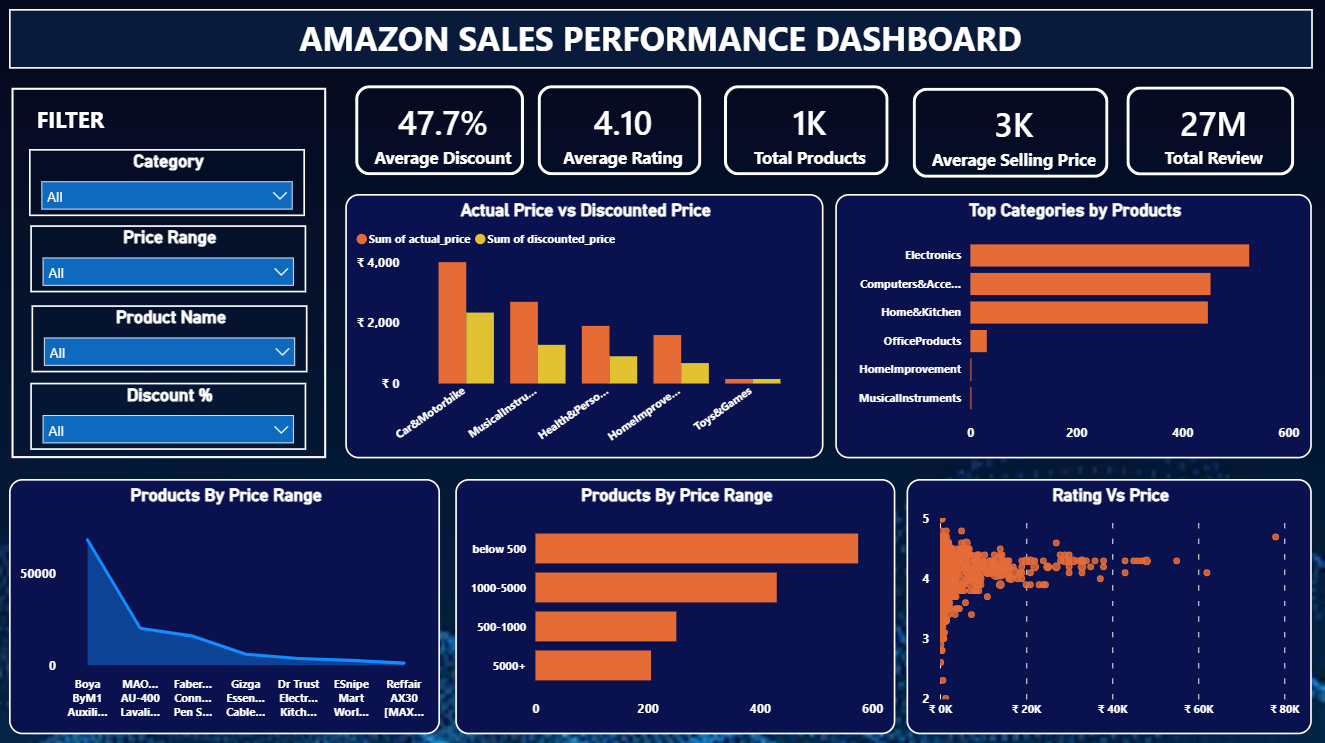

The page's visual inventory and layout, read from the dashboard file:
{"tool":"powerbi","page":{"name":"Page 1","canvas":[1280,720],"ordinal":0},"visuals":[{"type":"textbox","box":[9.7,9.7,1258.3,57.9],"z":0},{"type":"cardVisual","fields":{"Data":["amazon.Average Selling Price"]},"box":[865,68.8,223.8,121.2],"z":1000},{"type":"cardVisual","fields":{"Data":["amazon.Total Review"]},"box":[1071.2,67.5,196.2,120],"z":2000},{"type":"cardVisual","fields":{"Data":["amazon.Average Discount"]},"box":[327.5,66.2,197.5,121.2],"z":3000},{"type":"cardVisual","fields":{"Data":["amazon.Average Rating"]},"box":[502.5,66.2,192.5,121.2],"z":4000},{"type":"cardVisual","fields":{"Data":["amazon.Total Products"]},"box":[682.5,66.2,193.8,121.2],"z":5000},{"type":"clusteredBarChart","title":"Top Categories by Products","fields":{"Category":["amazon.category.1"],"Y":["CountNonNull(amazon.product_id)"]},"box":[807.5,188.8,460,255],"z":6000},{"type":"clusteredColumnChart","title":"Actual Price vs Discounted Price","fields":{"Category":["amazon.category.1"],"Y":["Sum(amazon.actual_price)","Sum(amazon.discounted_price)"]},"box":[333.8,188.8,461.2,255],"z":7000},{"type":"scatterChart","title":"Rating Vs Price","fields":{"X":["amazon.discounted_price"],"Y":["amazon.rating"],"Size":["CountNonNull(amazon.rating_count)"]},"box":[876.2,463.8,391.2,246.2],"z":8000},{"type":"barChart","title":"Products By Price Range","fields":{"Category":["amazon.Price Ranger"],"Y":["CountNonNull(amazon.product_id)"]},"box":[440,463.8,425,246.2],"z":9000},{"type":"areaChart","title":"Products By Price Range","fields":{"Category":["amazon.product_name"],"Y":["Sum(amazon.rating_count)"]},"box":[10,463.8,416.2,246.2],"z":10000},{"type":"shape","box":[12.5,86.2,303.8,357.5],"z":11000},{"type":"slicer","title":"Price Range","fields":{"Values":["amazon.Price Ranger"]},"box":[30,218.8,266.2,65],"z":12000},{"type":"slicer","title":"Discount %","fields":{"Values":["amazon.discount_percentage"]},"box":[30,370,266.2,65],"z":13000},{"type":"slicer","title":"Product Name","fields":{"Values":["amazon.product_name"]},"box":[31.2,295,266.2,65],"z":14000},{"type":"slicer","title":"Category","fields":{"Values":["amazon.category.1"]},"box":[28.8,145,266.2,65],"z":15000},{"type":"textbox","box":[31.2,96.2,96.2,48.8],"z":16000}]}

Visuals, with their boxes in screenshot pixels (x1, y1, x2, y2), scaled from the page's 1280x720 canvas onto the 1325x743 screenshot:
textbox: locate(10, 10, 1313, 70)
cardVisual - amazon.Average Selling Price: locate(895, 71, 1127, 196)
cardVisual - amazon.Total Review: locate(1109, 70, 1312, 193)
cardVisual - amazon.Average Discount: locate(339, 68, 543, 193)
cardVisual - amazon.Average Rating: locate(520, 68, 719, 193)
cardVisual - amazon.Total Products: locate(706, 68, 907, 193)
"Top Categories by Products" clusteredBarChart: locate(836, 195, 1312, 458)
"Actual Price vs Discounted Price" clusteredColumnChart: locate(346, 195, 823, 458)
"Rating Vs Price" scatterChart: locate(907, 479, 1312, 733)
"Products By Price Range" barChart: locate(455, 479, 895, 733)
"Products By Price Range" areaChart: locate(10, 479, 441, 733)
shape: locate(13, 89, 327, 458)
"Price Range" slicer: locate(31, 226, 307, 293)
"Discount %" slicer: locate(31, 382, 307, 449)
"Product Name" slicer: locate(32, 304, 308, 372)
"Category" slicer: locate(30, 150, 305, 217)
textbox: locate(32, 99, 132, 150)
